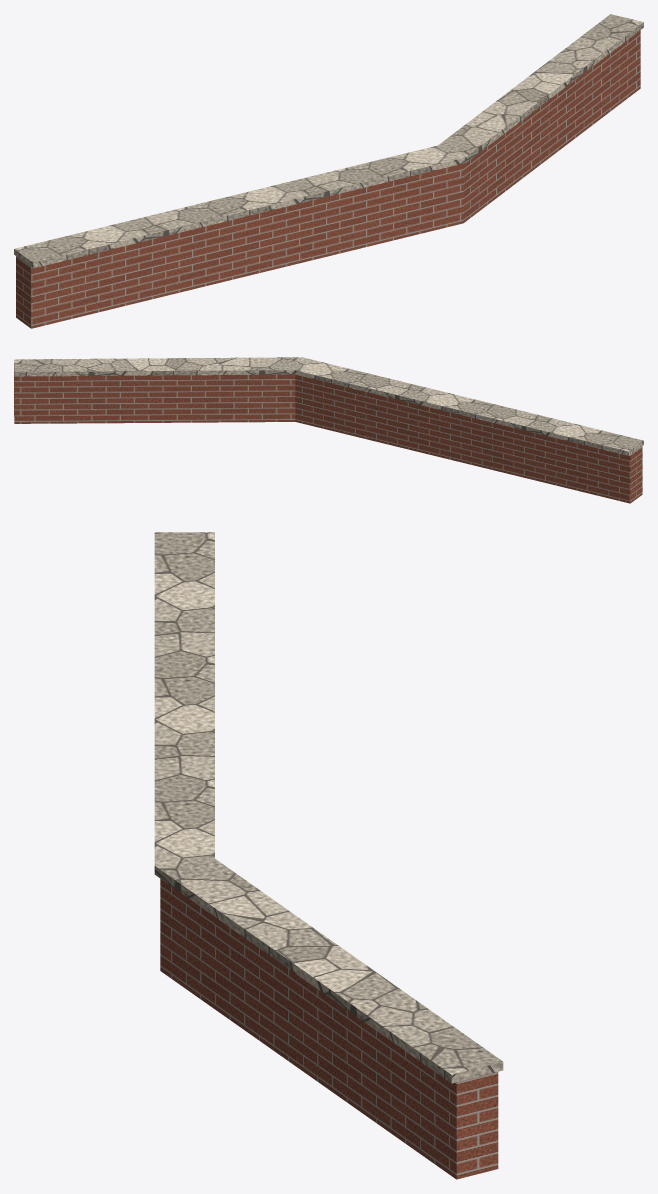
3 views of the same model, one above another, from view 1: azimuth 30°, elevation 25°; view 2: azimuth 150°, elevation 25°; view 3: azimuth 270°, elevation 25° (orthographic). The views are drawn at different scales.
Parts seen in each view (by area): view 1: wall.planter_wall (×2); view 2: wall.planter_wall (×2); view 3: wall.planter_wall (×2).
Boxes of the visible parts, x1=… form: wall.planter_wall (×2): x1=14, y1=14, x2=643, y2=328; wall.planter_wall (×2): x1=14, y1=357, x2=643, y2=503; wall.planter_wall (×2): x1=154, y1=532, x2=503, y2=1179.
Size of the model in its own units: 6.58 by 1.79 by 0.6.
Materials: 2 (2 with a texture image).
